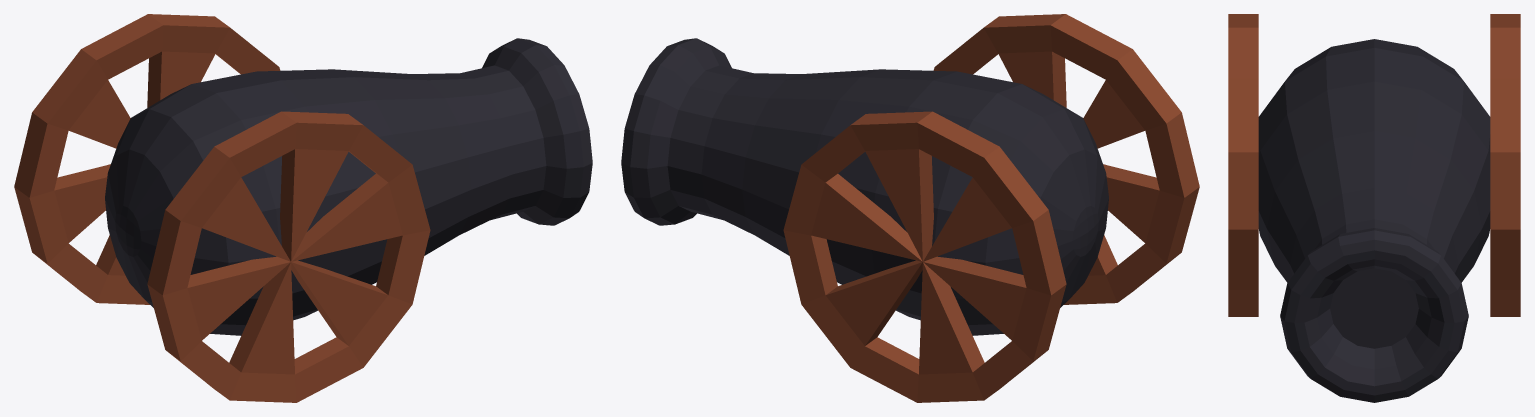
The model's file is cañon.fbx.
3 renders of one model, left to right at view 1: azimuth 30°, elevation 25°; view 2: azimuth 150°, elevation 25°; view 3: azimuth 270°, elevation 25°, orthographic.
Visible parts, largest first — view 1: Circle; view 2: Circle; view 3: Circle.
Part boxes in pixels (x1,y1,x2,y2): Circle: (14, 14, 592, 402); Circle: (621, 14, 1199, 402); Circle: (1228, 14, 1520, 402).
Bounding box in the file's own units: 4.23 × 2.45 × 2.36.
